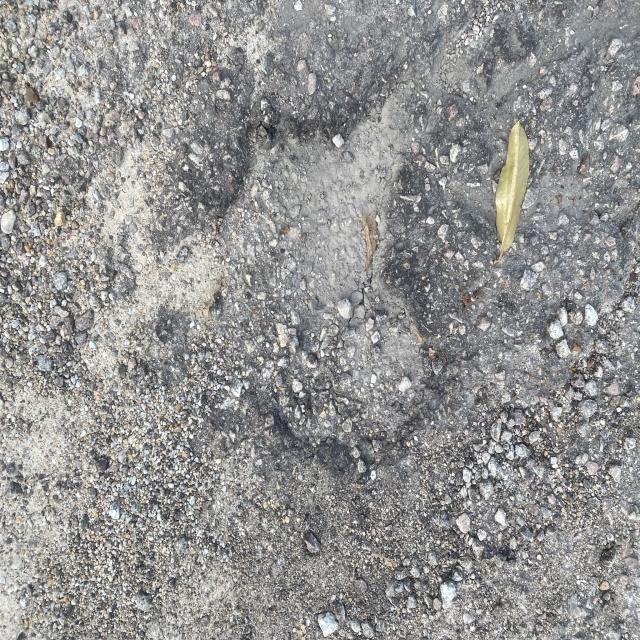Pothole: (172, 67, 469, 544)
